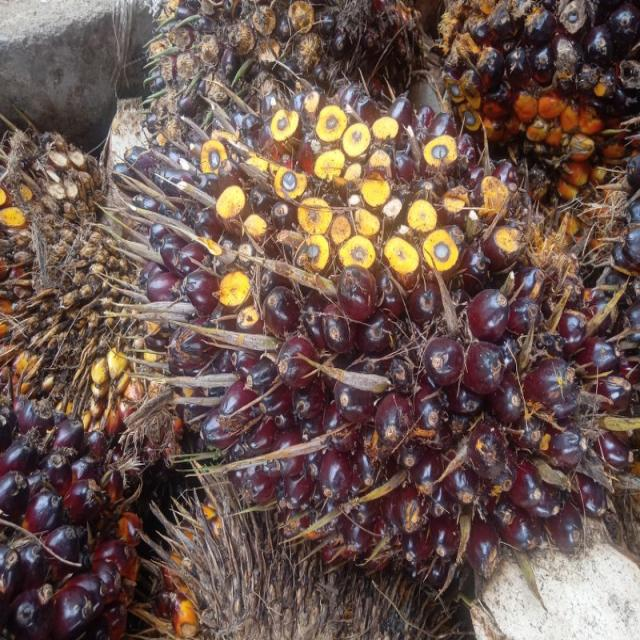fraksi 1: (118, 61, 608, 576)
